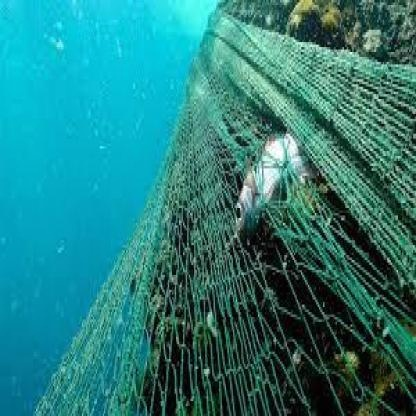net: (46, 29, 416, 416)
